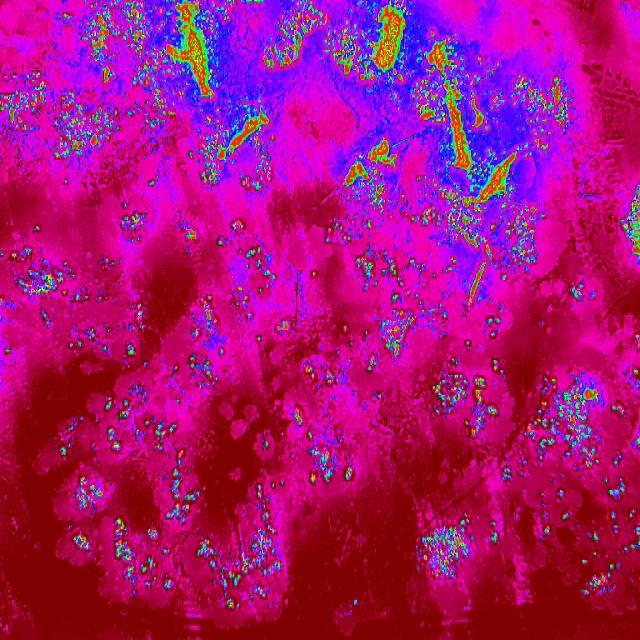fire: (319, 0, 569, 274), (49, 392, 290, 618), (60, 1, 321, 200), (0, 207, 277, 392), (359, 272, 516, 442), (496, 464, 640, 598), (515, 356, 640, 505), (276, 316, 362, 492), (0, 72, 124, 168), (408, 512, 508, 590), (620, 184, 640, 265), (564, 282, 590, 307)
